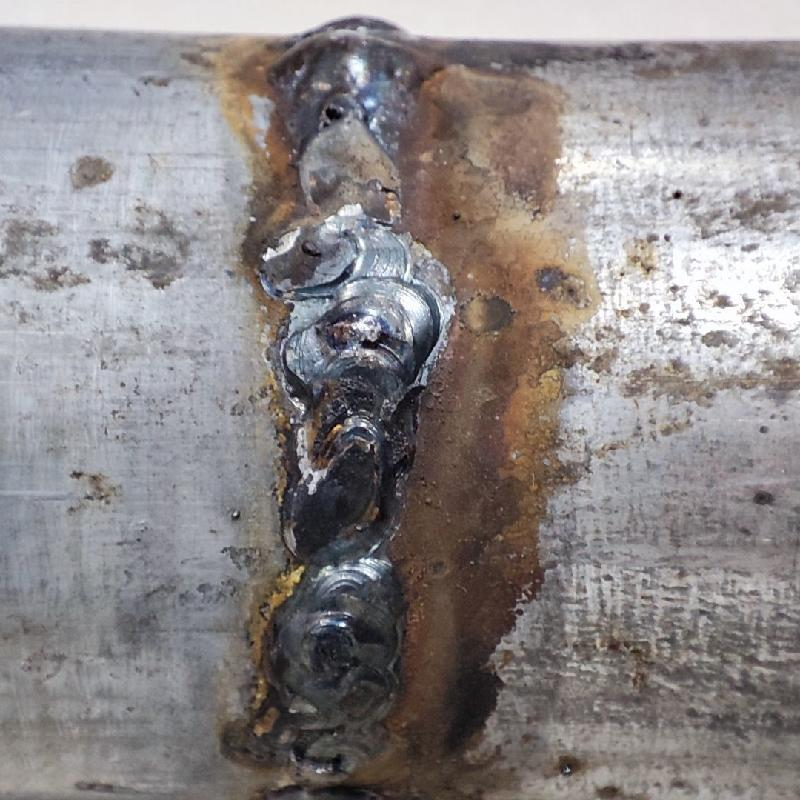Not_fully_soldered: (267, 109, 423, 287)
Surface_pores: (308, 98, 364, 136)
Weld: (259, 11, 420, 126)
wrong_size: (259, 290, 440, 732)
